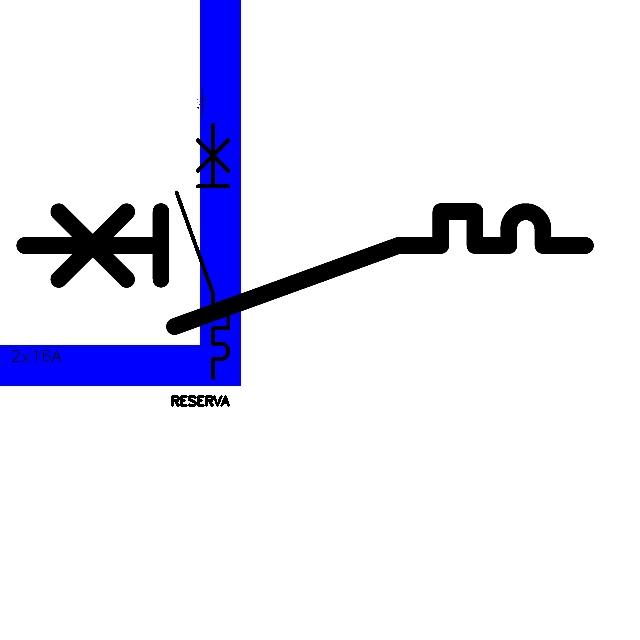interruptor_termomagnetico: (10, 197, 600, 341), (170, 118, 235, 385)
